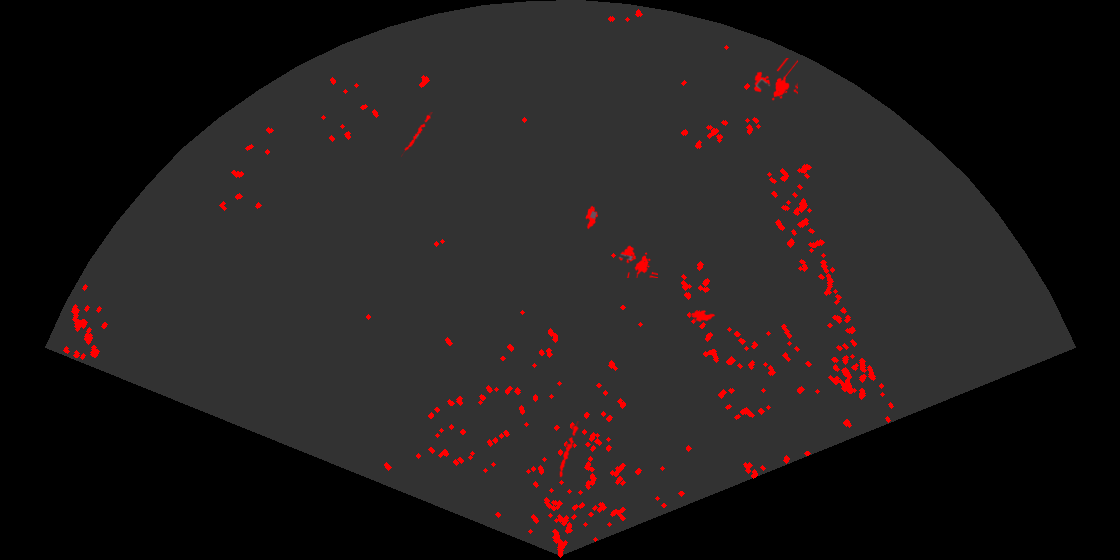AUV: (584, 204, 600, 231), (690, 309, 717, 323)
cage: (752, 58, 798, 102), (617, 244, 658, 278)
chain: (401, 112, 434, 157), (558, 421, 581, 479)
